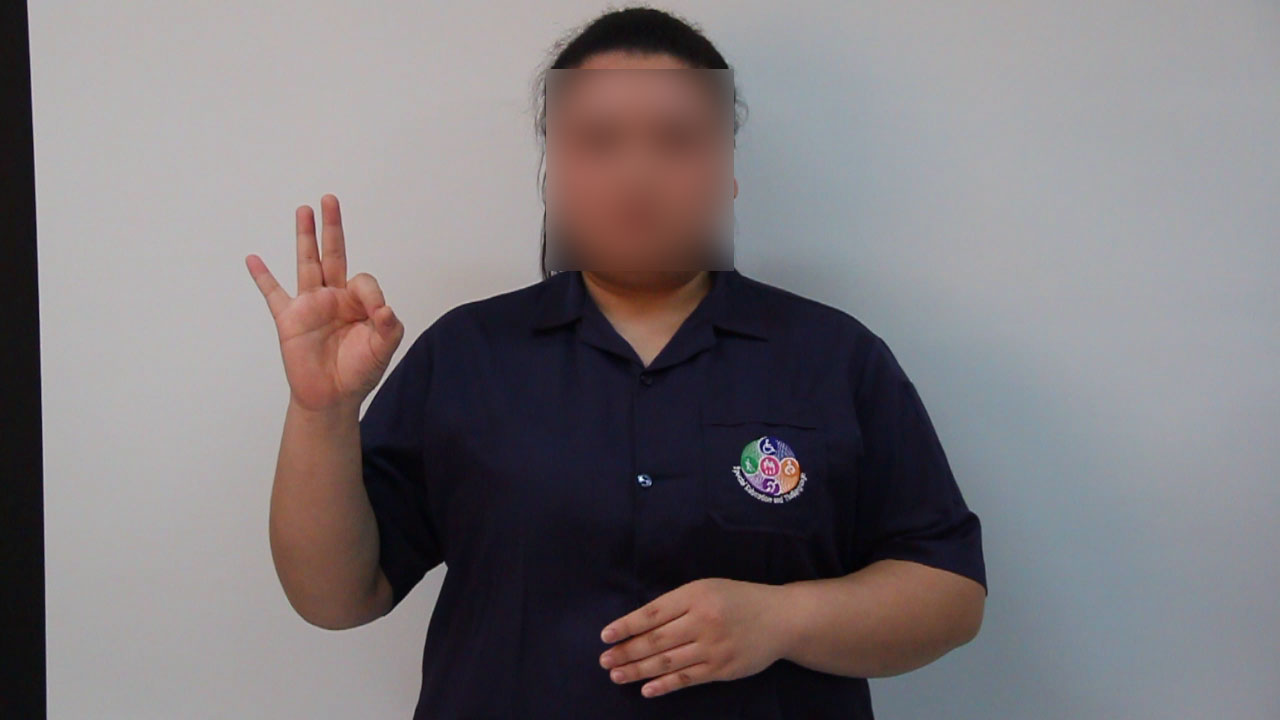for: (236, 174, 414, 424)
